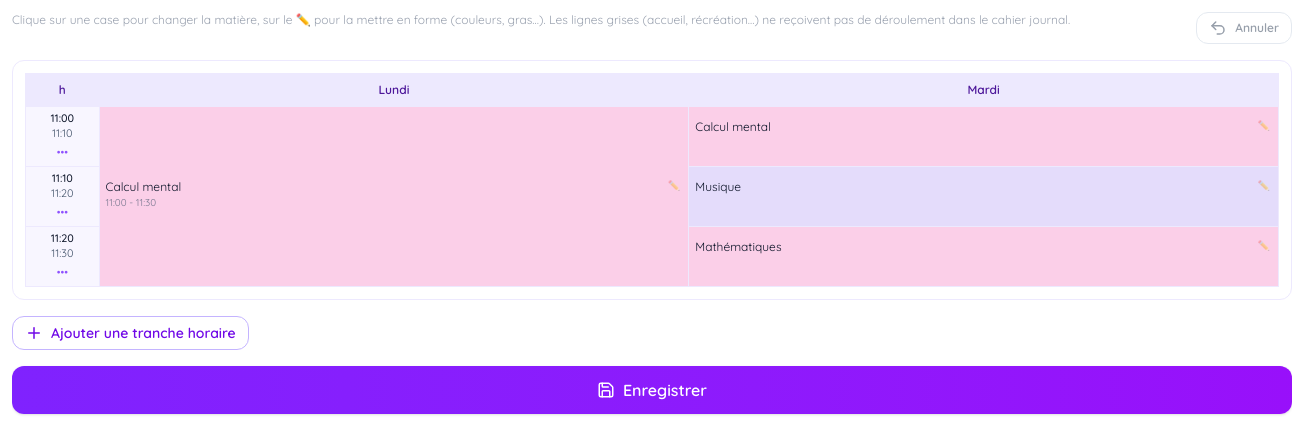
Test: TimetableGrid : rendu de la grille fusionnée › fermeture du panneau de mise en forme › le bouton « Terminé » referme le panneau
Click the button named "mise en forme lundi 11:00". click: (674, 186)
box: [666,178,682,192]
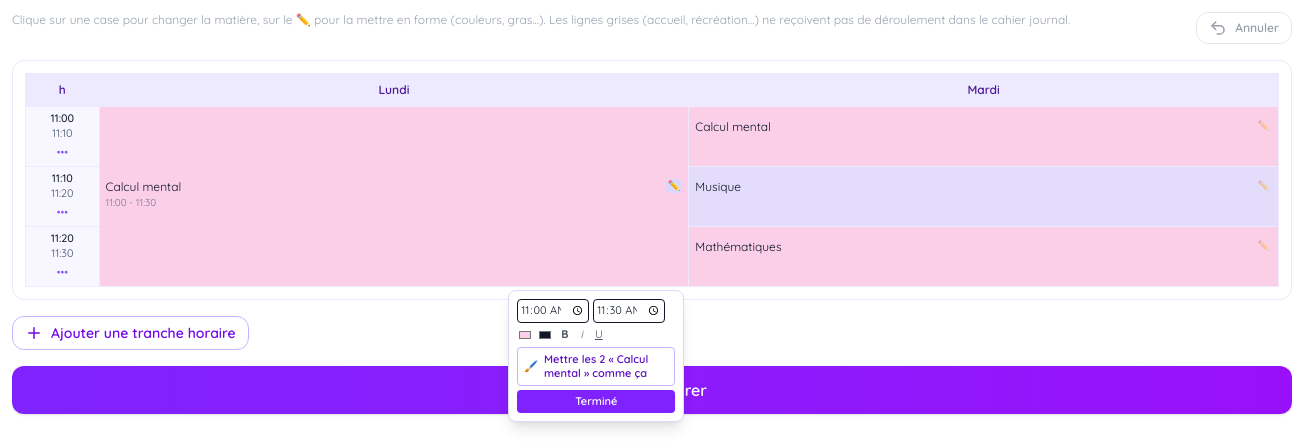
Check: the button "Terminé" is shown
Click the button "Terminé". click: (596, 401)
box: [517,390,675,413]
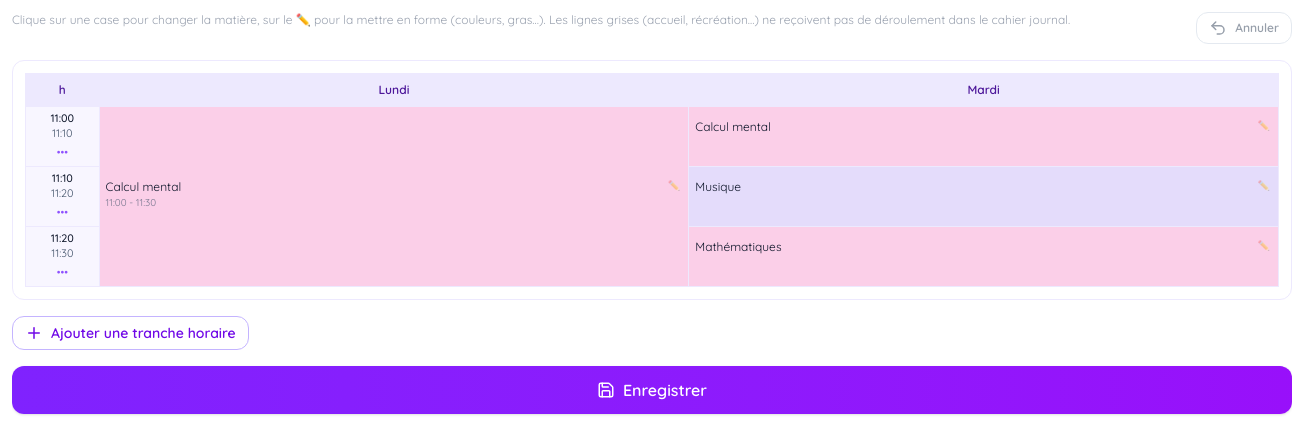
Check: the button "Terminé" is gone
